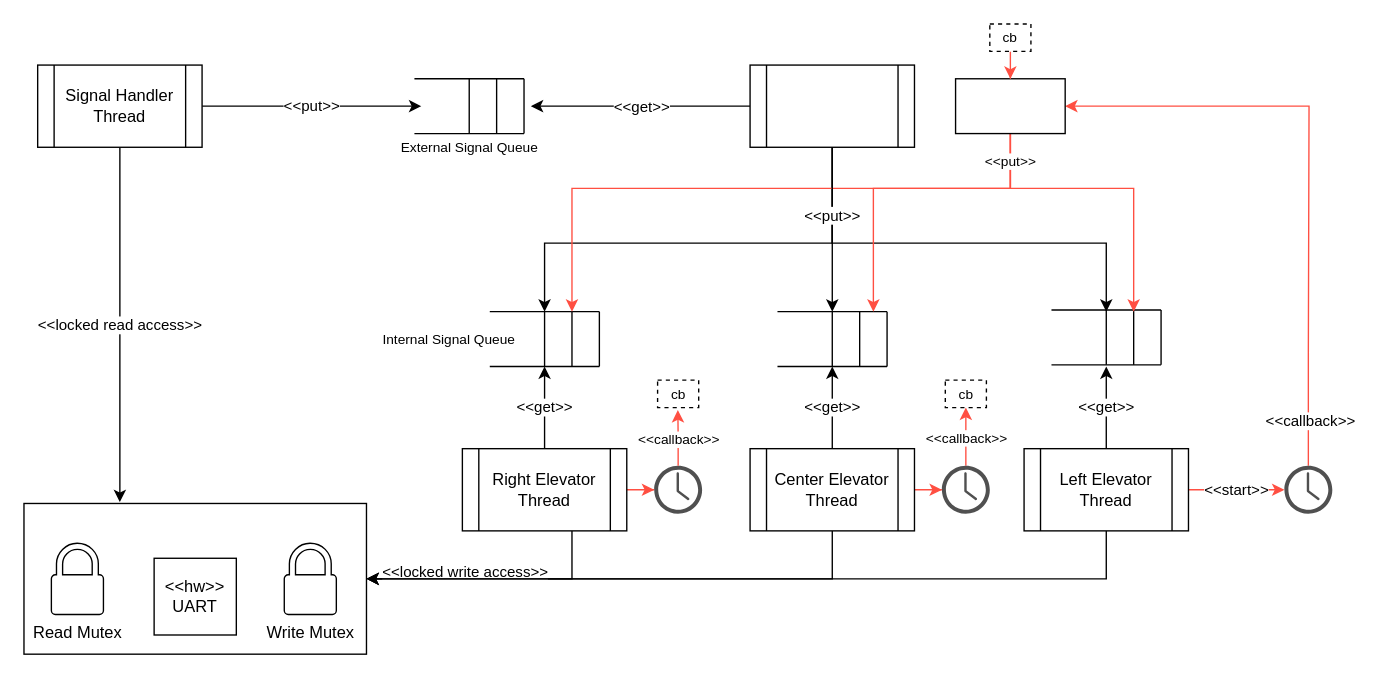
This 1378x678 diagram has some shape labels left out. Here are the shapes that lost their labels. From the top down, the box of each, then its label:
(749, 64, 914, 147): Controller Thread
(954, 77, 1065, 134): <<function>> Timer callback
(23, 502, 366, 654): <<locked resource>>
